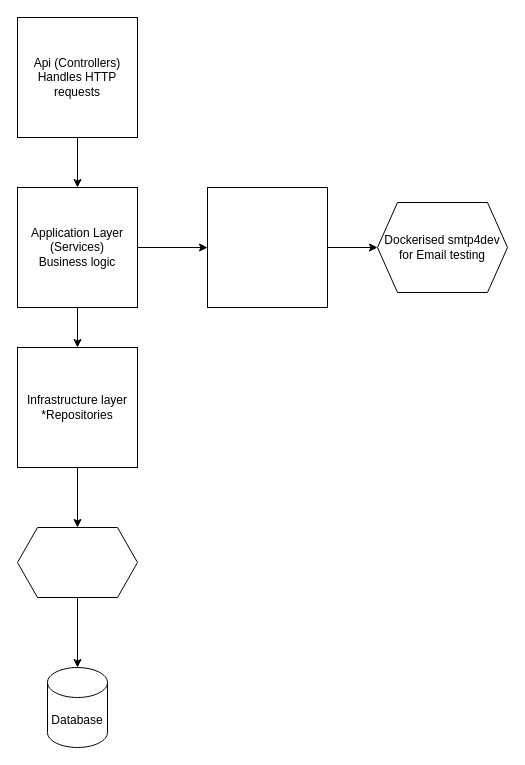
Some shapes in this 525 by 765 pixel diagram are drawn without their labels. The shapes that lost their labels are listed below. From the top down, each one's box as (x1, y1, x2, y2) in pixels, then its label:
(206, 186, 328, 308): Background Service Sends monthly email reports
(16, 526, 138, 598): Dockerised Database (Postgres)
